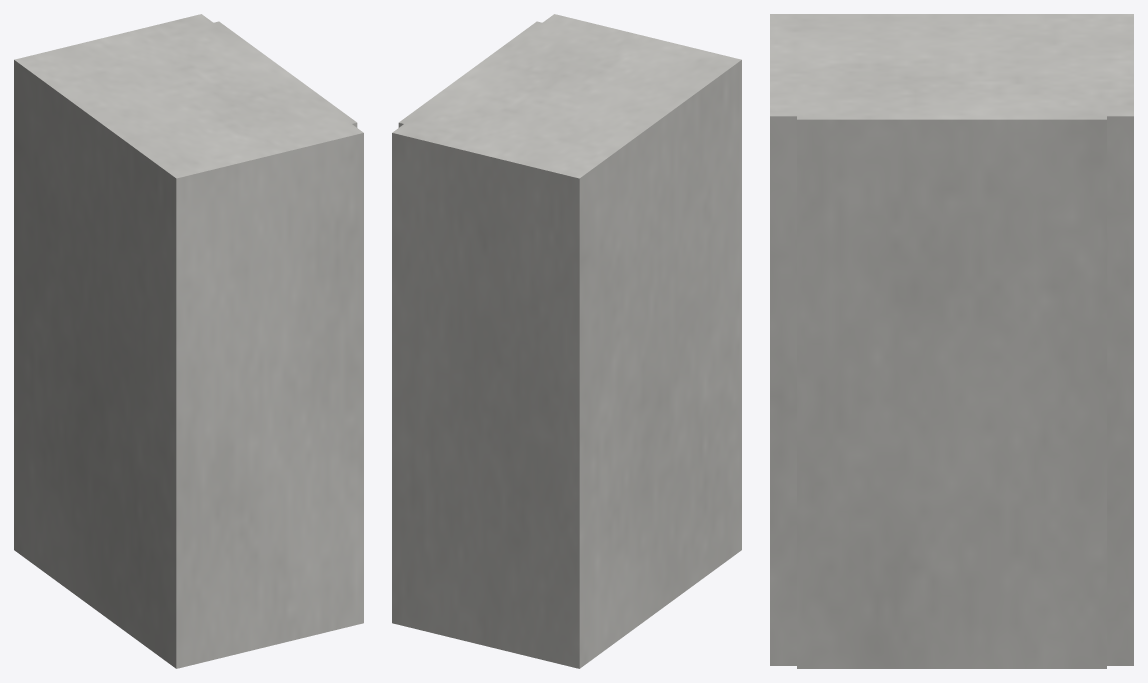
The model's file is fridge.glb.
3 renders of one model, left to right at view 1: azimuth 30°, elevation 25°; view 2: azimuth 150°, elevation 25°; view 3: azimuth 270°, elevation 25°, orthographic. The views are drawn at different scales.
Visible parts, largest first — view 1: Cube; view 2: Cube; view 3: Cube.
Part boxes in pixels (bbox=[...]): Cube: bbox=[14, 14, 363, 668]; Cube: bbox=[392, 14, 741, 668]; Cube: bbox=[770, 14, 1133, 668].
Size of the model in its own units: 4.12 by 10 by 6.
Materials: 1 (1 with a texture image).
